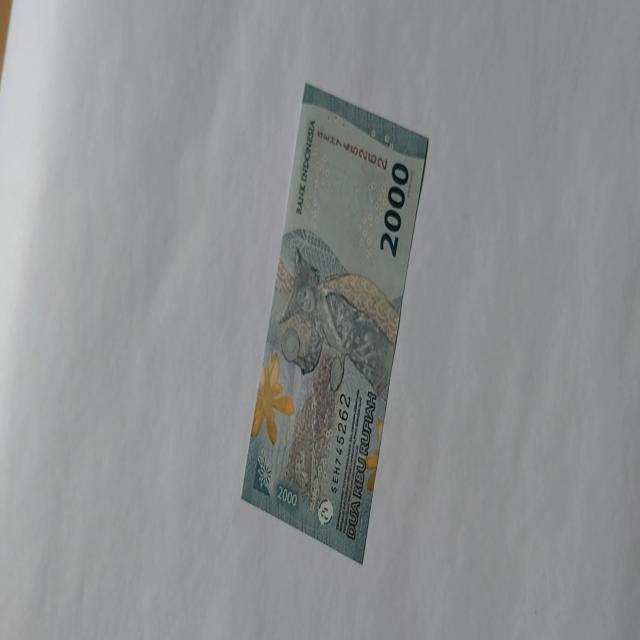dua ribu rupiah: (240, 81, 430, 564), (275, 239, 399, 516)
